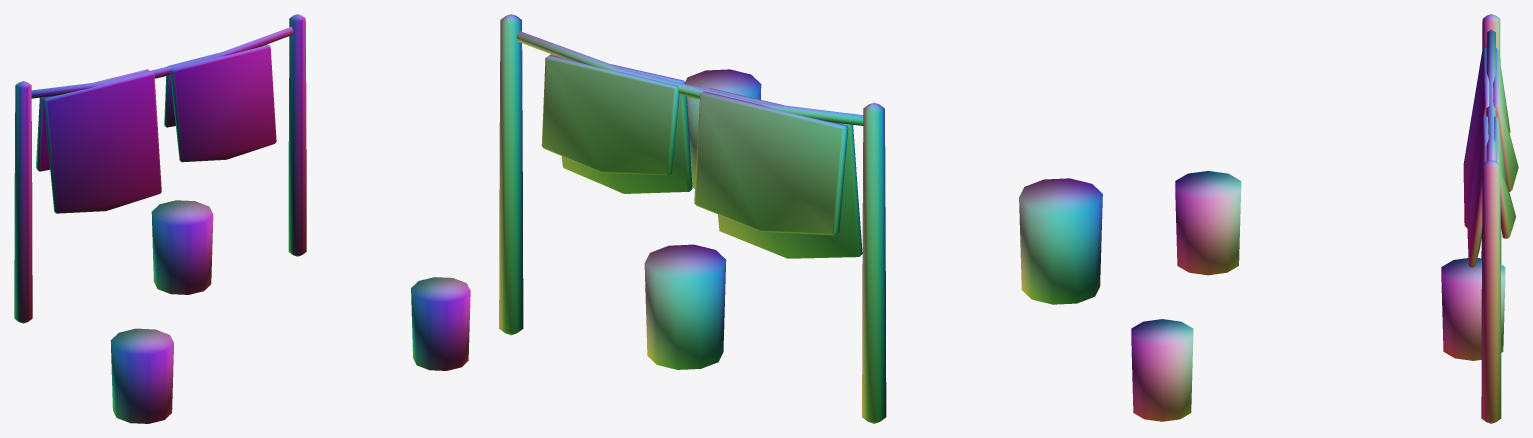
File: SM_Prop_March_HearthDressing.fbx
3 renders of one model, left to right at view 1: azimuth 30°, elevation 25°; view 2: azimuth 150°, elevation 25°; view 3: azimuth 270°, elevation 25°, orthographic. The views are drawn at different scales.
Parts seen in each view (by area): view 1: SM_Prop_March_HearthDressing; view 2: SM_Prop_March_HearthDressing; view 3: SM_Prop_March_HearthDressing.
Part boxes in pixels (x1,y1,x2,y2): SM_Prop_March_HearthDressing: [14, 14, 470, 423]; SM_Prop_March_HearthDressing: [499, 14, 1102, 423]; SM_Prop_March_HearthDressing: [1131, 14, 1518, 423].
Bounding box in the file's own units: 1.93 × 1.35 × 1.8.
